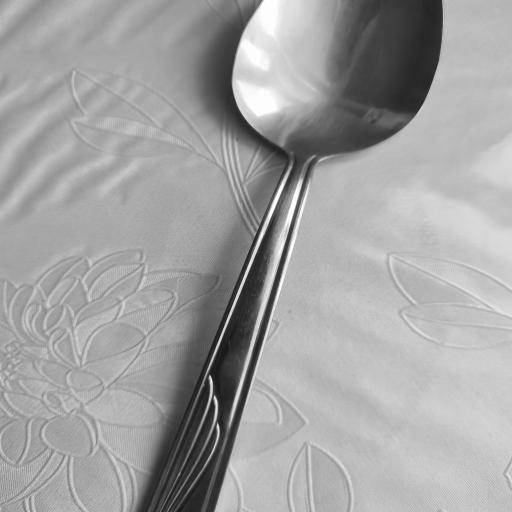spoon: (139, 0, 449, 512)
